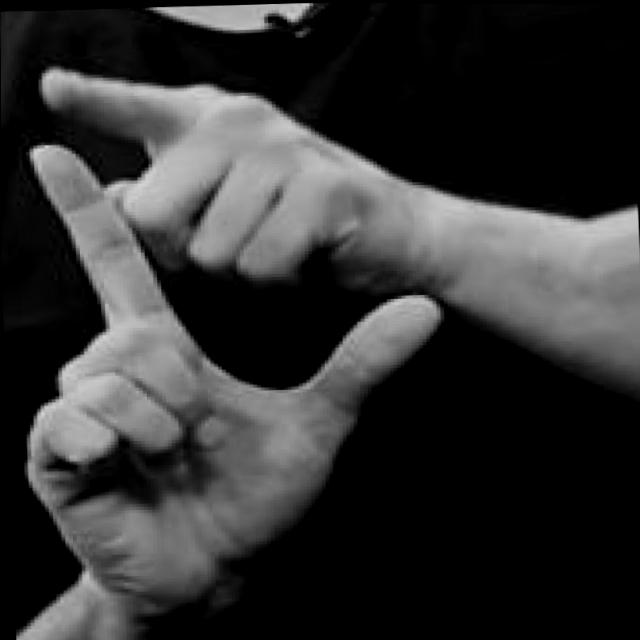J: (7, 50, 506, 632)
